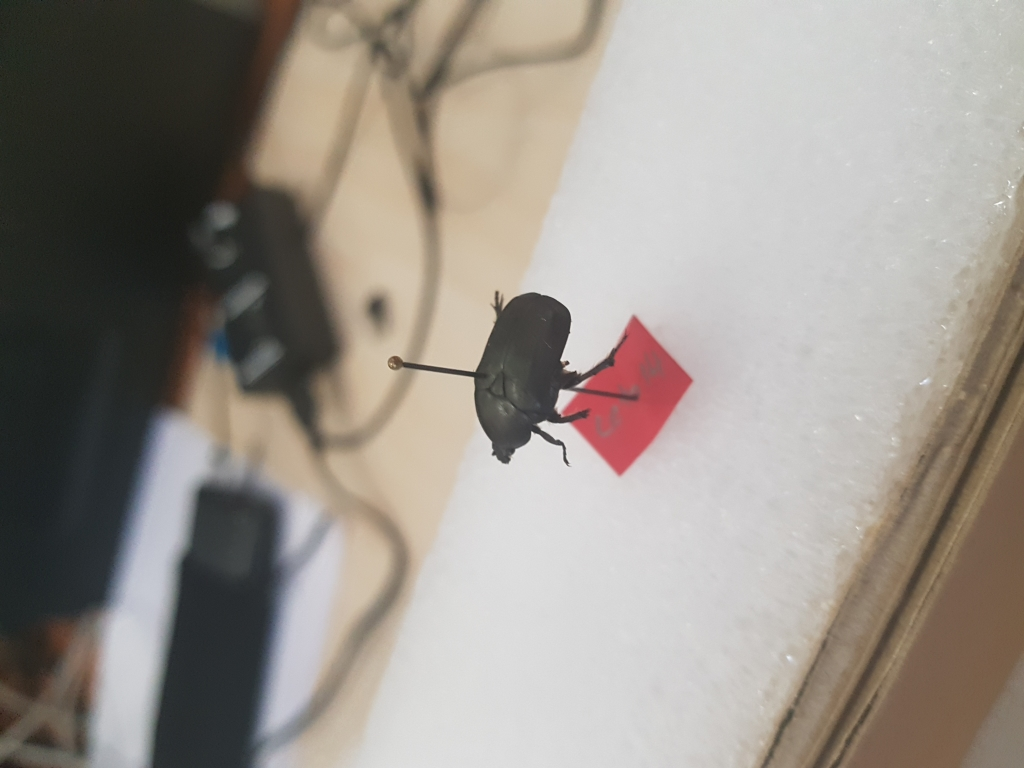Protaetia_vidua: (434, 259, 651, 488)
